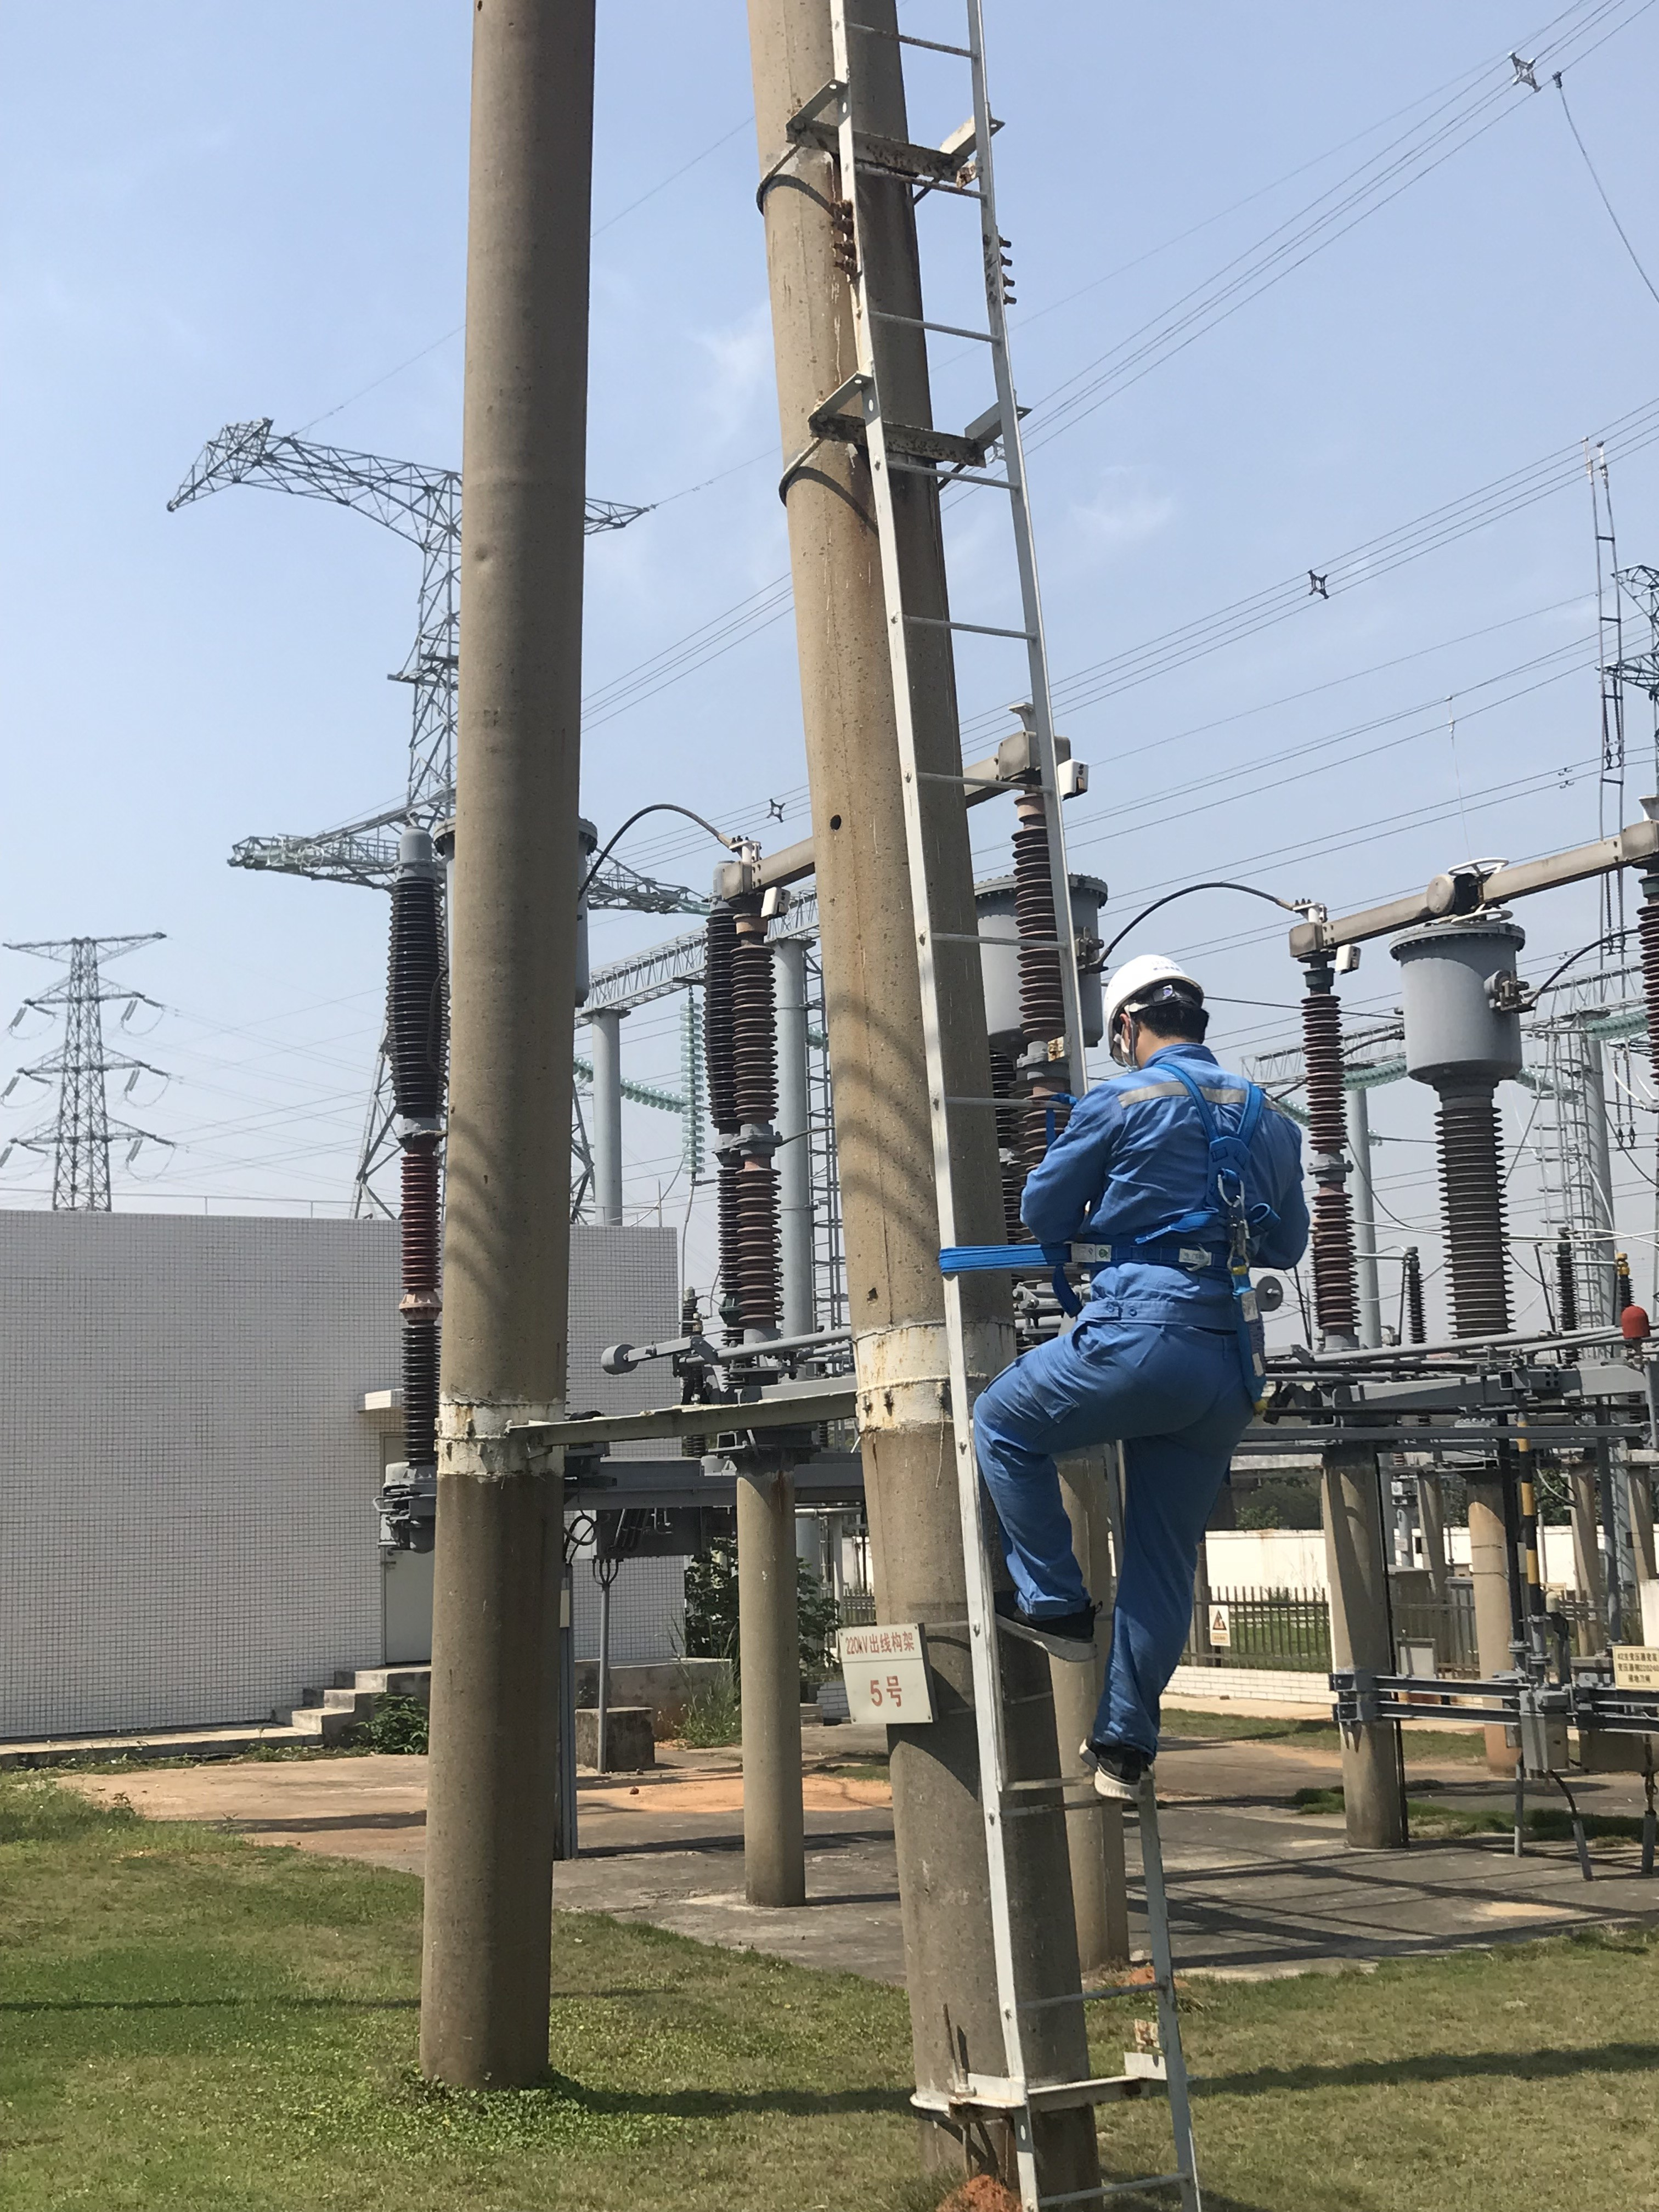downsuit: (971, 1350, 1265, 1745)
upsuit: (1014, 1047, 1324, 1280)
